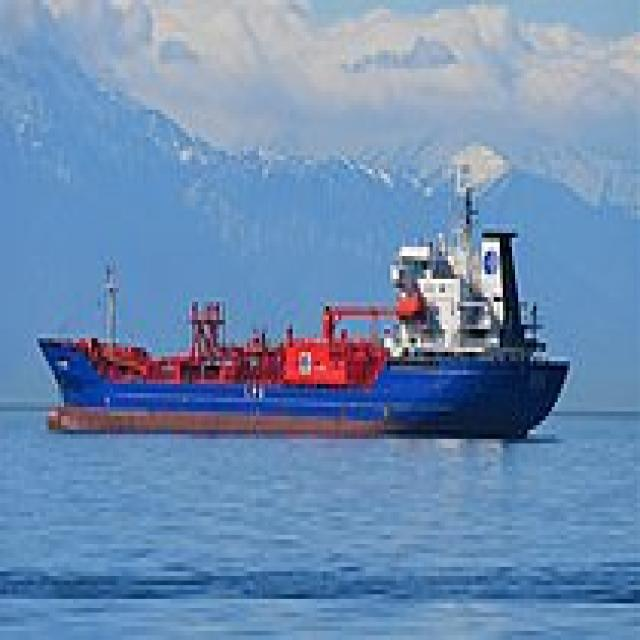Tanker: (33, 183, 567, 430)
